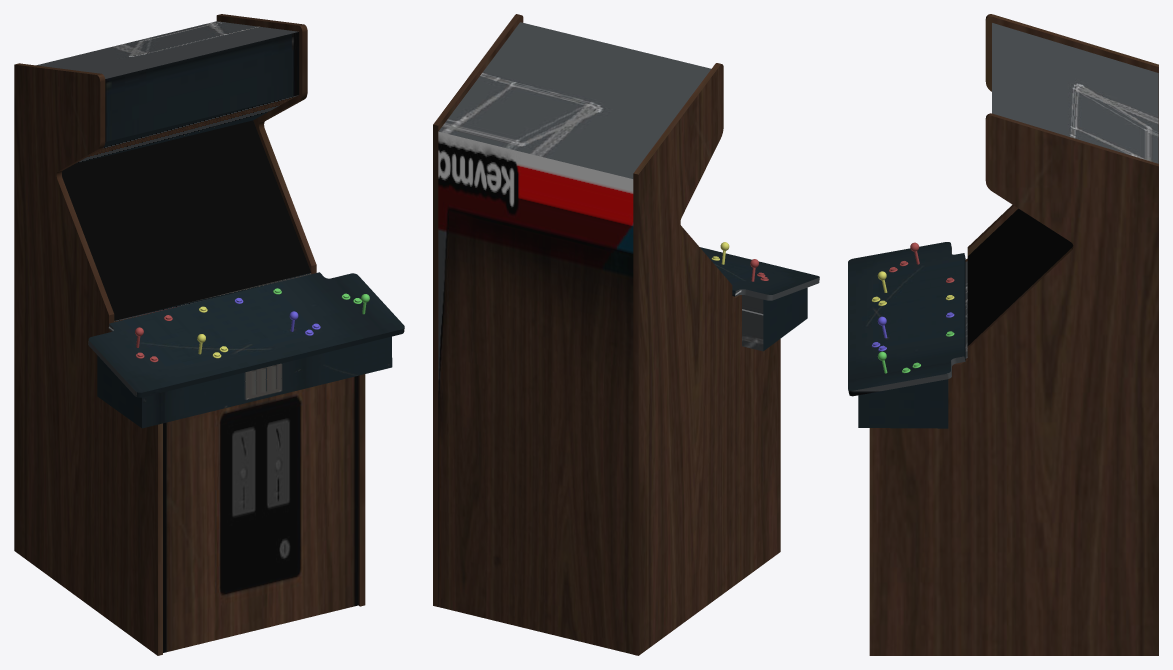
Rendered from GI_Joe03.fbx.
3 renders of one model, left to right at view 1: azimuth 30°, elevation 25°; view 2: azimuth 150°, elevation 25°; view 3: azimuth 270°, elevation 25°, orthographic.
Visible parts, largest first — view 1: polySurface8; view 2: polySurface8; view 3: polySurface8.
Part boxes in pixels (x1,y1,x2,y2): polySurface8: (14, 14, 404, 655); polySurface8: (433, 14, 819, 655); polySurface8: (848, 14, 1158, 655).
Size of the model in its own units: 207 by 396 by 206.
Materials: 7 (3 with a texture image).
